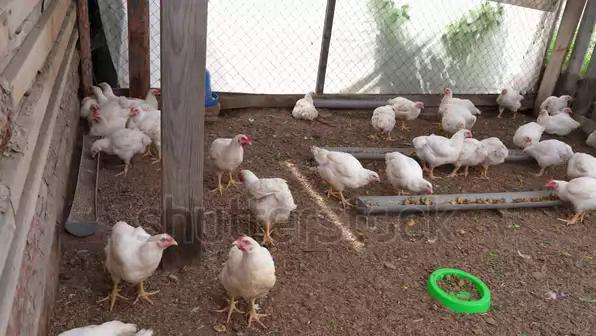Pollos: (106, 220, 179, 284), (237, 168, 298, 227), (221, 234, 275, 300), (309, 144, 381, 193), (383, 151, 434, 194), (415, 128, 473, 163), (543, 176, 596, 209), (210, 131, 251, 173), (441, 86, 481, 127), (90, 128, 140, 160), (528, 142, 573, 169), (539, 107, 581, 134), (127, 106, 157, 137), (477, 138, 511, 164), (86, 106, 123, 129), (390, 96, 425, 120), (294, 92, 322, 120), (370, 105, 396, 133), (514, 122, 545, 145), (91, 82, 120, 105), (498, 87, 526, 109), (543, 93, 574, 109), (141, 86, 161, 109)
